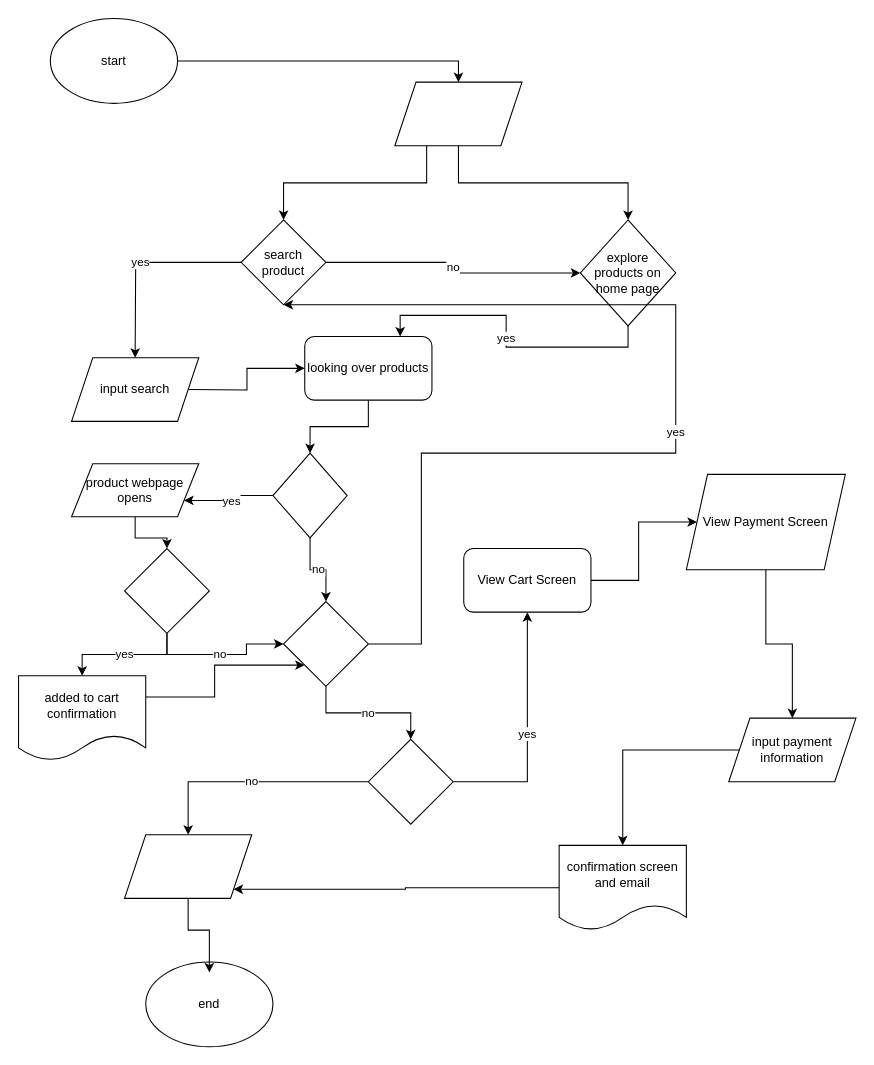
The diagram is 874 pixels wide and 1065 high, and some of its shapes have lost their labels. Here are the shapes that lost their labels. From the top down, the box of each, then its label:
(394, 81, 522, 146): enter the website
(272, 452, 347, 538): view specific product
(123, 547, 209, 633): add to cart
(282, 600, 368, 686): continue shopping
(367, 738, 453, 824): checkout
(123, 834, 252, 898): leave website
